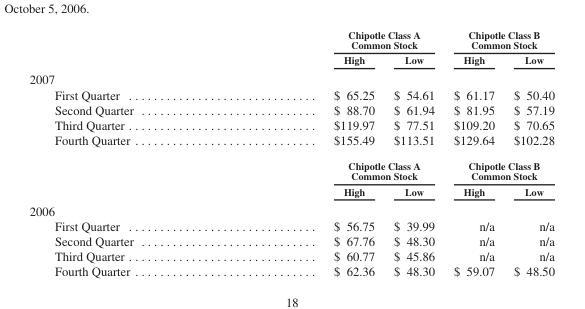table: (28, 28, 553, 278)
table column: (28, 28, 232, 278), (232, 28, 383, 278), (383, 28, 443, 278), (443, 28, 503, 278), (503, 28, 553, 278)
table column header: (28, 28, 553, 68)
table projected row header: (28, 68, 553, 86), (28, 200, 553, 217)
table row: (28, 153, 553, 183), (28, 28, 553, 52), (28, 132, 553, 153), (28, 68, 553, 86), (28, 183, 553, 200), (28, 200, 553, 217), (28, 52, 553, 68), (28, 116, 553, 132), (28, 217, 553, 233), (28, 86, 553, 101), (28, 101, 553, 116), (28, 233, 553, 248), (28, 248, 553, 263), (28, 263, 553, 278)
table spanning cell: (232, 153, 443, 183), (232, 28, 443, 52), (443, 153, 553, 183), (443, 28, 553, 52)
